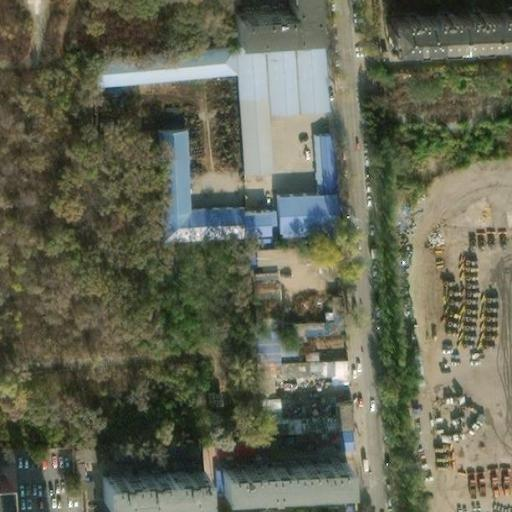building: (148, 123, 232, 236), (208, 449, 340, 490), (388, 4, 512, 47), (254, 34, 321, 112), (87, 41, 228, 78), (226, 39, 264, 168), (92, 462, 197, 499), (270, 186, 335, 231), (270, 356, 350, 386), (303, 125, 332, 188), (230, 200, 270, 231), (335, 399, 359, 450), (255, 326, 285, 362), (251, 270, 282, 301), (0, 476, 21, 511)
